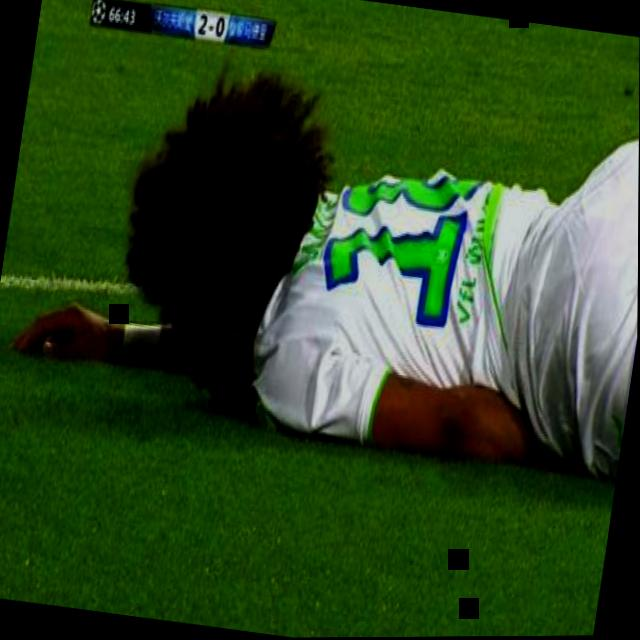Fall-Detected: (0, 20, 640, 503)
